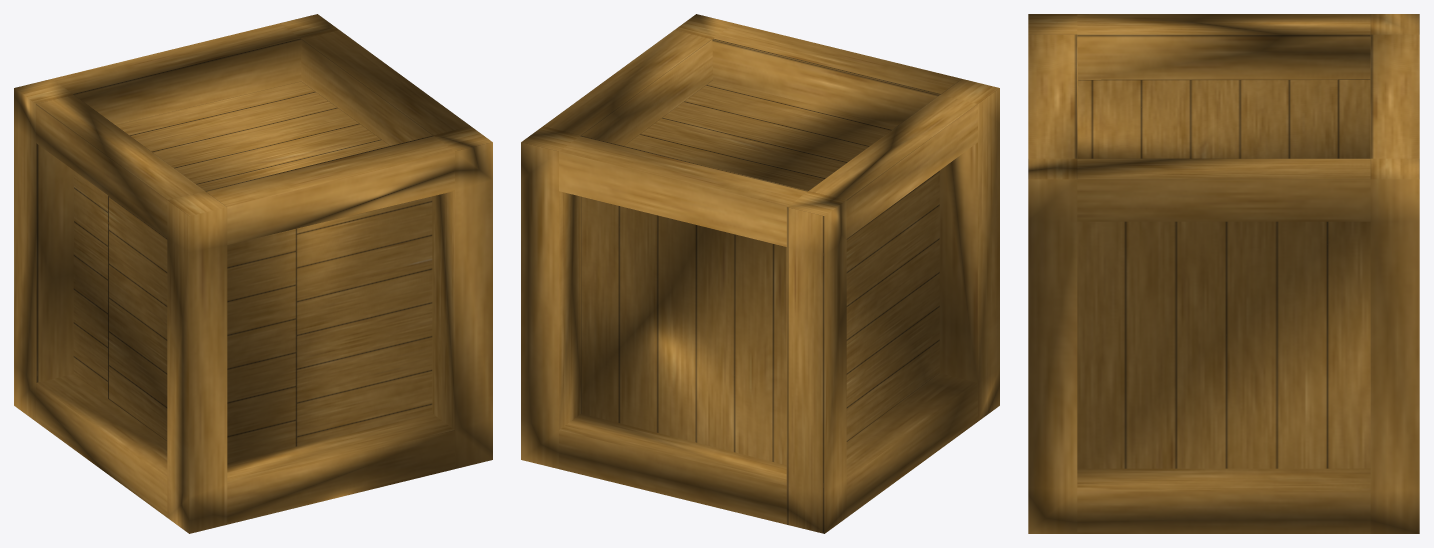
The model's file is crate.dae.
3 views of the same model, side by side, from view 1: azimuth 30°, elevation 25°; view 2: azimuth 150°, elevation 25°; view 3: azimuth 270°, elevation 25° (orthographic). The views are drawn at different scales.
Parts seen in each view (by area): view 1: Cube; view 2: Cube; view 3: Cube.
Boxes of the visible parts, x1,y1,x2,y2 form: Cube: [14, 14, 492, 533]; Cube: [521, 14, 999, 533]; Cube: [1028, 14, 1419, 533].
Bounding box in the file's own units: 2.36 × 2.36 × 2.36.
1 material, 1 textured.
